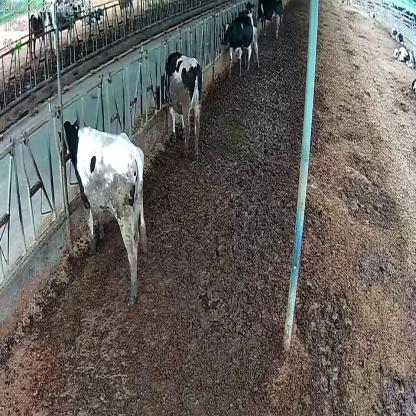cow: (57, 117, 150, 304), (154, 51, 204, 158), (222, 7, 261, 80)
